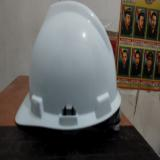Helmet: (15, 1, 121, 130)
